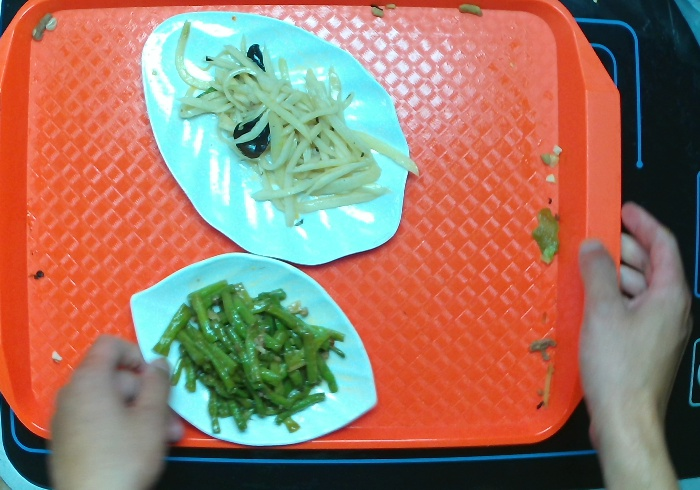RJxy-Bai_Ye_Pan: (140, 9, 411, 267)
RJxy-Da_Du_Pan: (128, 250, 380, 448)
